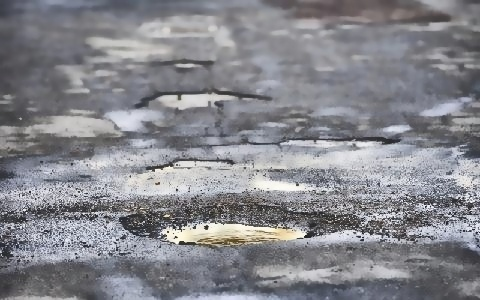pothole: (118, 200, 357, 246), (134, 89, 271, 110), (277, 134, 398, 145), (145, 158, 234, 171), (158, 58, 214, 68)
